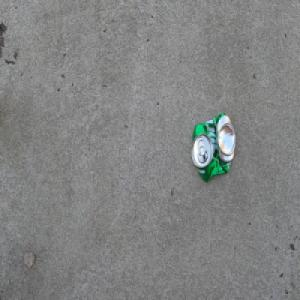SodaCan: (190, 111, 235, 182)
